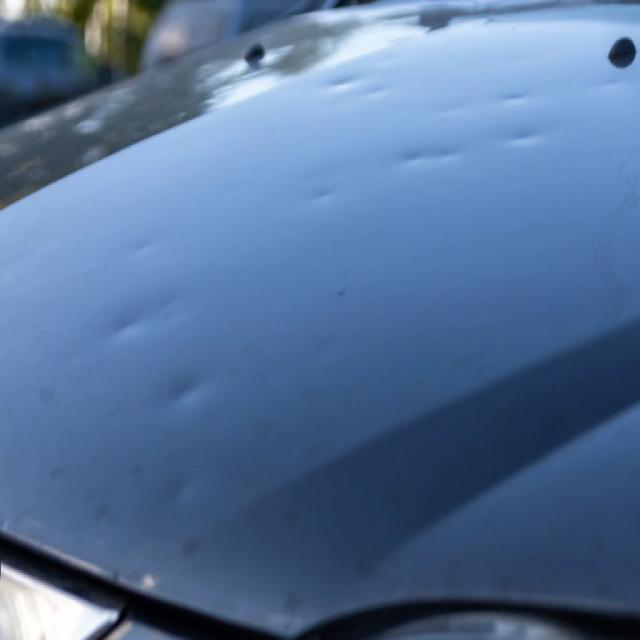dents: (172, 355, 221, 429), (95, 294, 142, 358), (117, 224, 164, 278), (164, 470, 206, 530), (304, 167, 345, 225), (26, 382, 67, 418), (494, 74, 527, 118), (399, 132, 426, 184), (326, 61, 356, 104), (436, 140, 465, 178), (367, 72, 392, 115), (325, 64, 356, 98), (514, 128, 546, 159)
